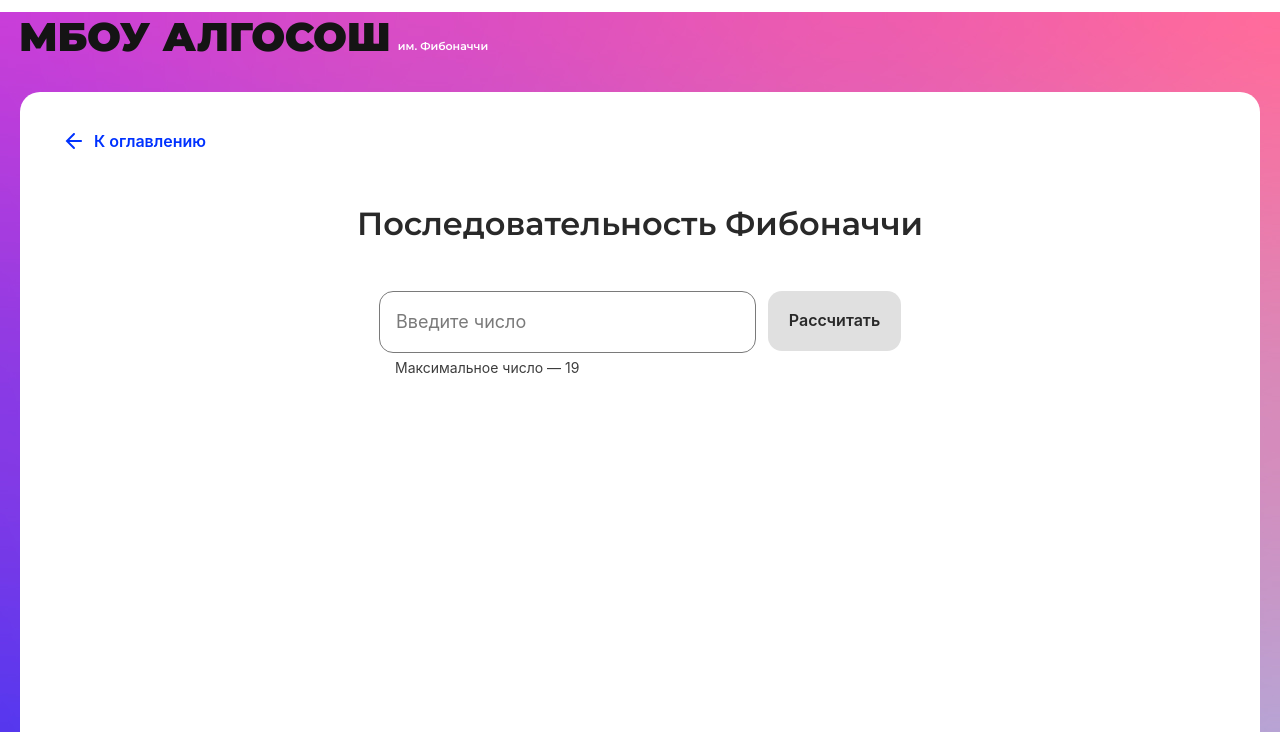
Test: fibonaci page working correctly › string reverses correctly
Type "5" into the number field with placeholder "Введите число" at x=568, y=322, box [379, 291, 756, 353]
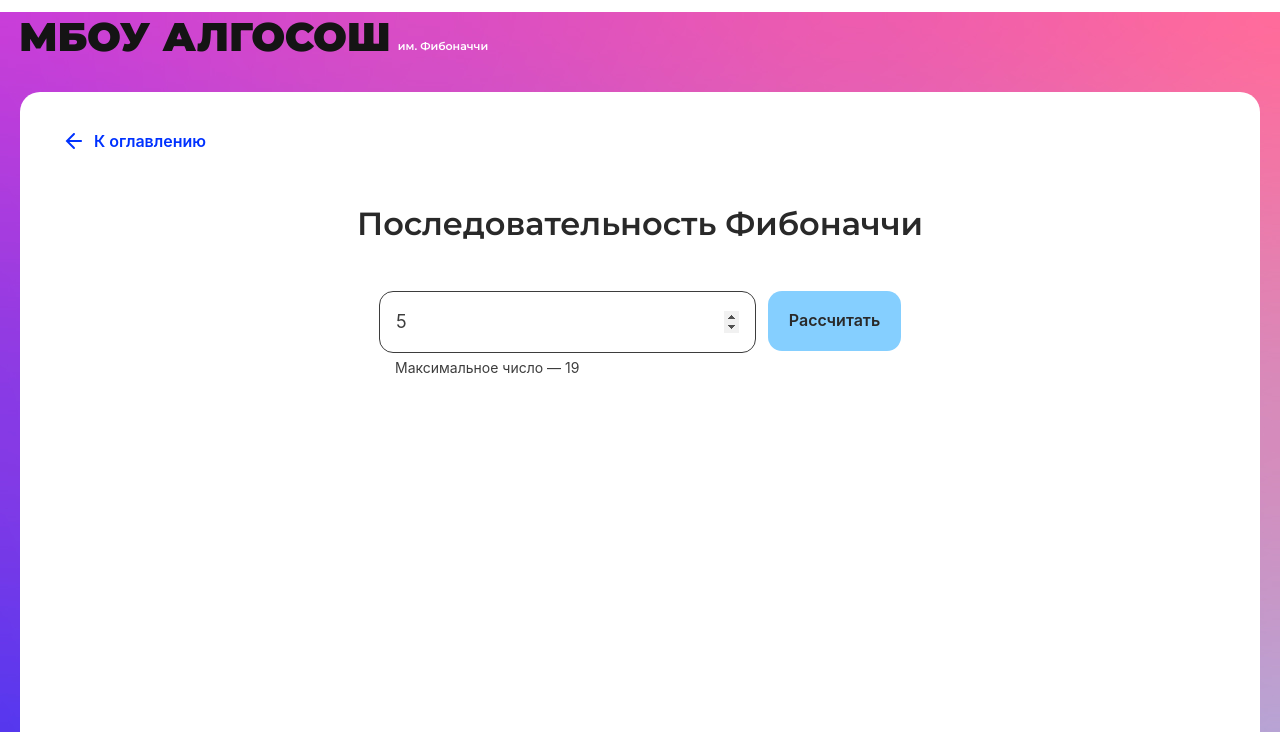
Click the button "Рассчитать" at x=835, y=321, box [768, 291, 901, 351]
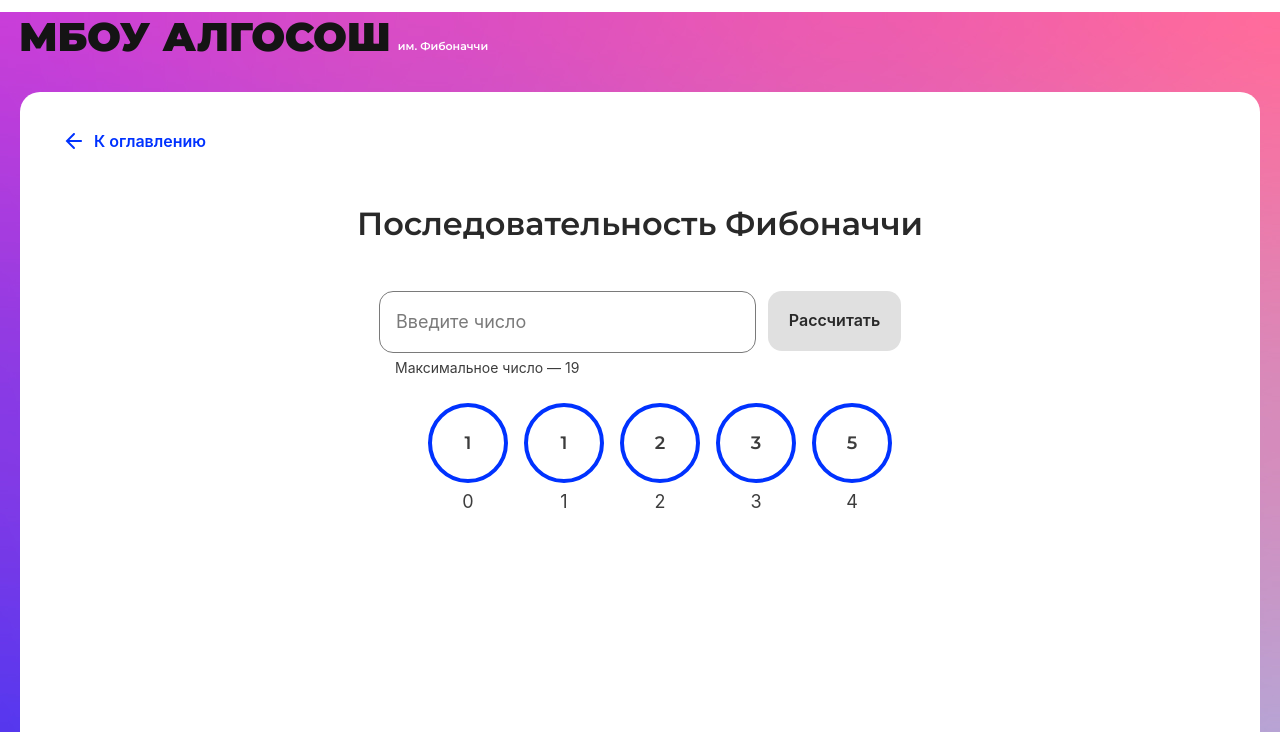
Expected: the 1st text "1" is shown, [465, 432, 472, 454]
Expected: the 2nd text "1" is shown, [561, 432, 568, 454]
Expected: the 1st text "2" is shown, [655, 432, 665, 454]
